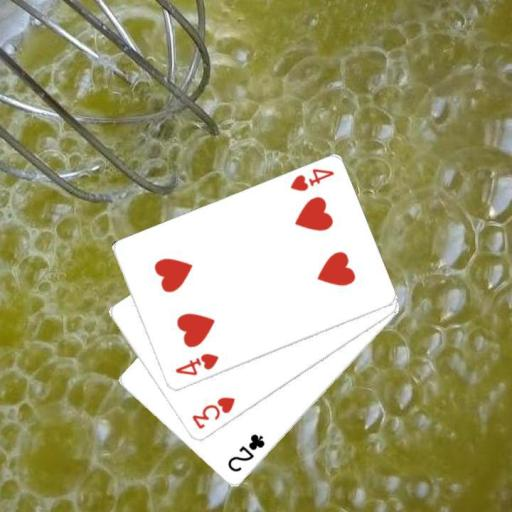2C: (224, 431, 267, 474)
3H: (188, 394, 237, 431)
4H: (171, 351, 220, 378), (287, 166, 336, 193)
